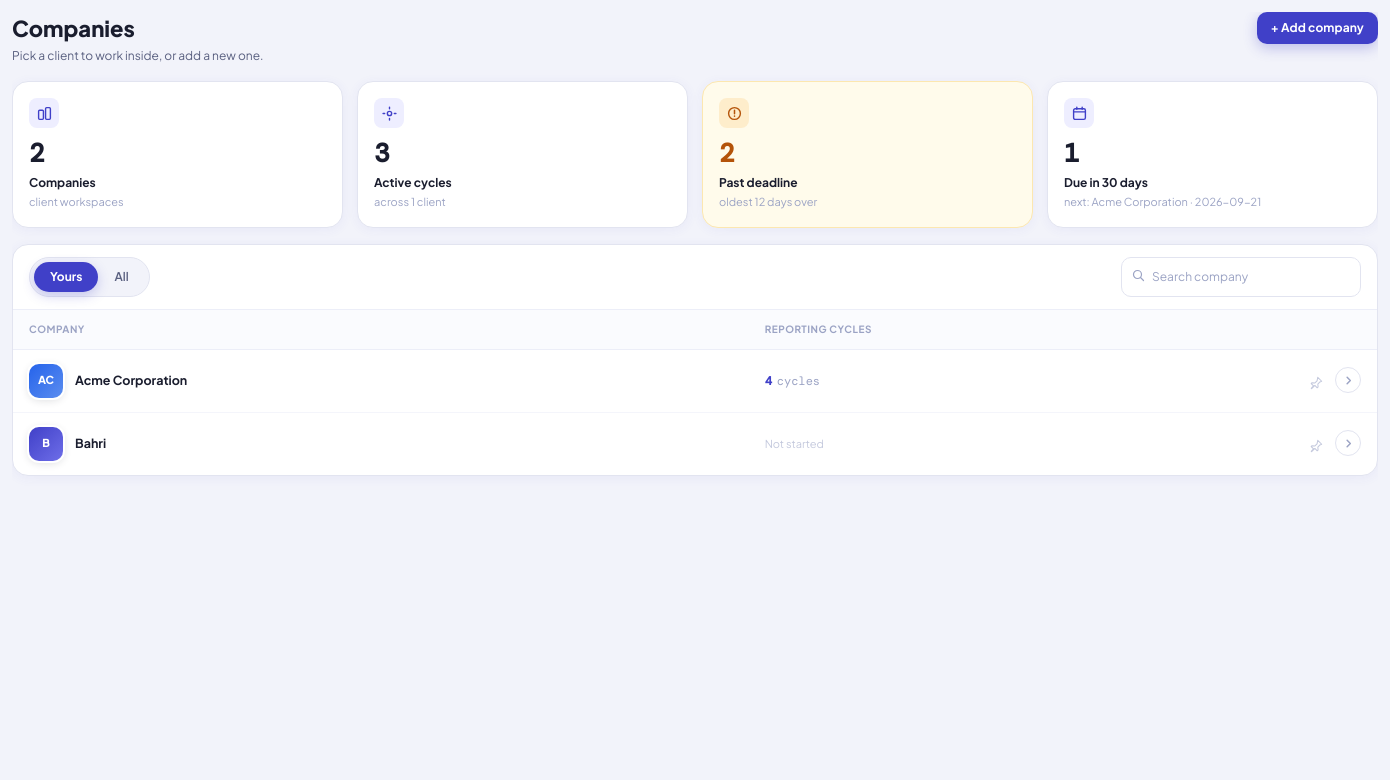
Test: Spark company directory › re-asks for the whole platform when All is picked
Expected: the text "Acme Corporation" is shown, top-left (75, 371), bottom-right (187, 390)
Click the button "All".
click(122, 276)  # box top-left (98, 262), bottom-right (145, 292)
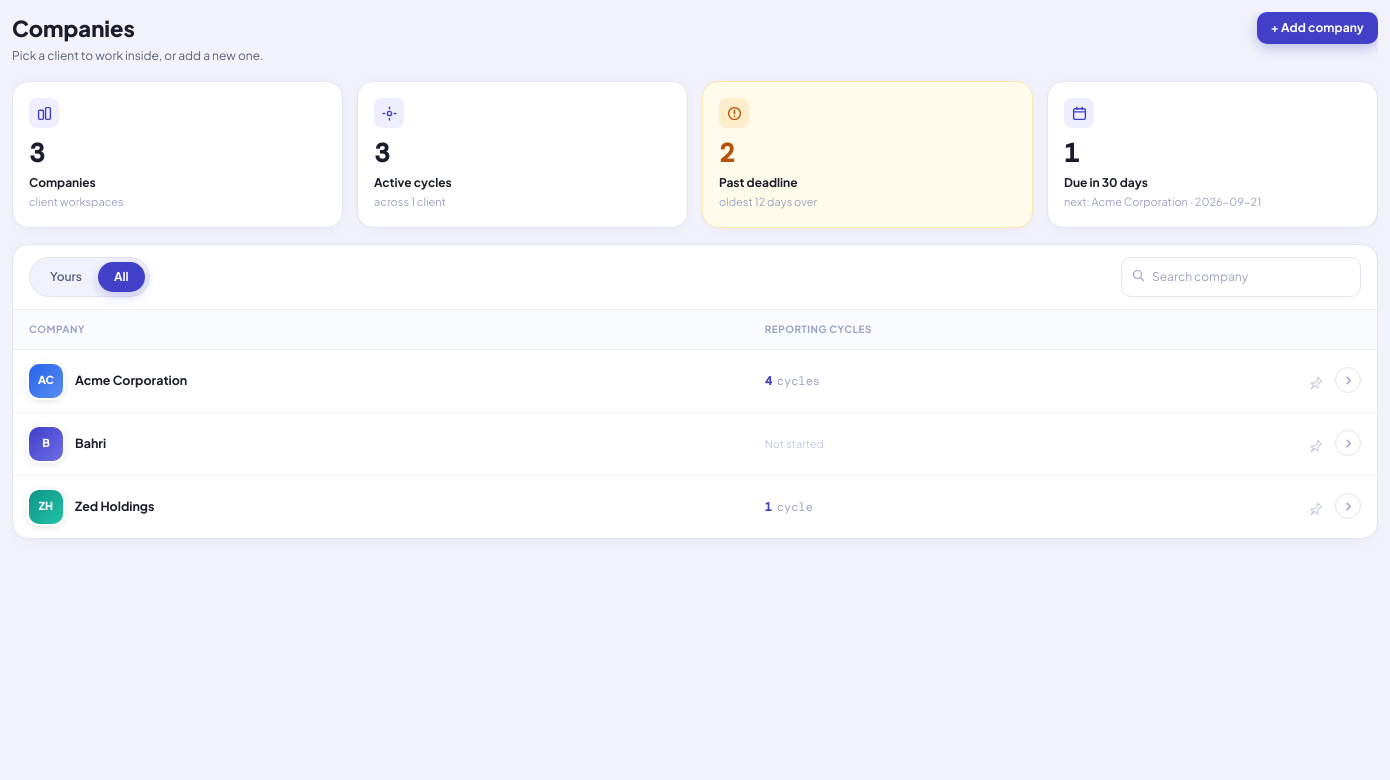
Result: the text "Zed Holdings" is shown at top-left (75, 497), bottom-right (154, 516)
